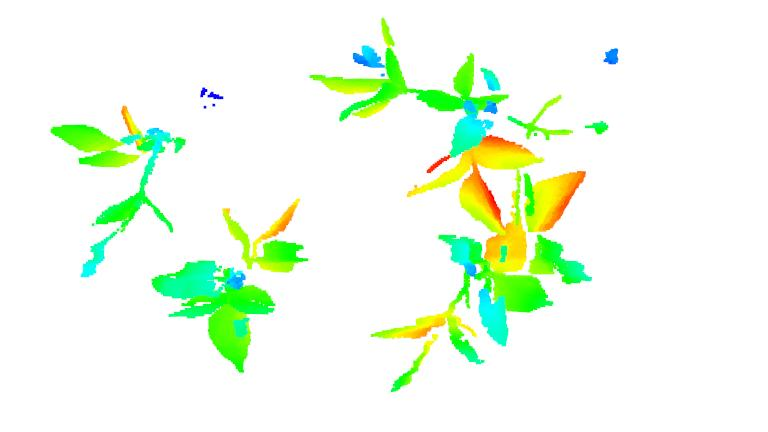mungbean: (313, 11, 577, 232), (381, 168, 593, 398), (39, 95, 192, 281), (151, 199, 307, 377)
